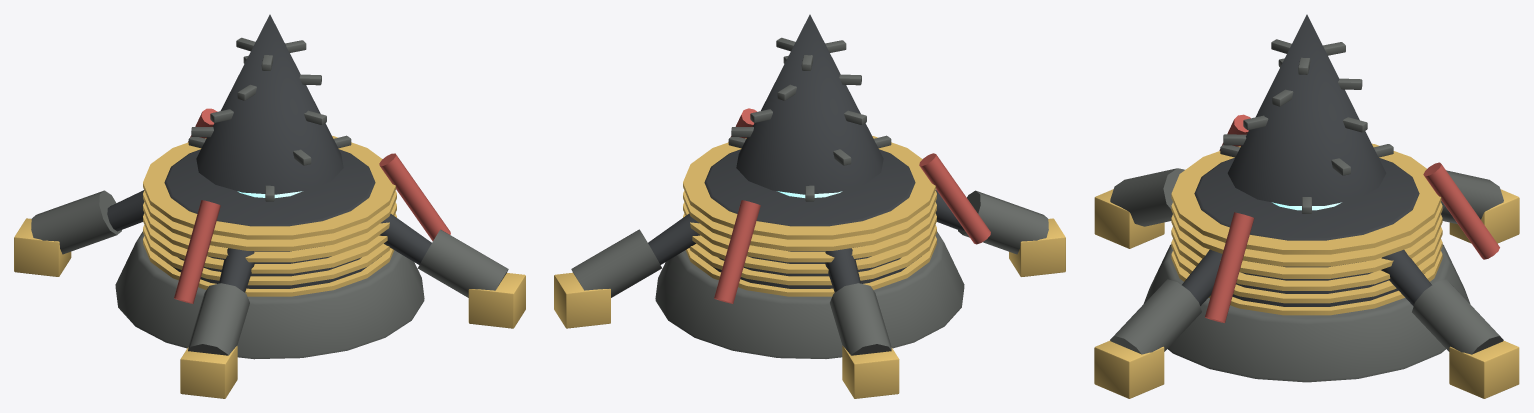
Rendered from bore_engine.glb.
The picture shows the model from 3 angles, left to right: view 1: azimuth 30°, elevation 25°; view 2: azimuth 150°, elevation 25°; view 3: azimuth 270°, elevation 25°; orthographic projection. The views are drawn at different scales.
Parts seen in each view (by area): view 1: body_mesh; view 2: body_mesh; view 3: body_mesh.
Boxes of the visible parts, x1,y1,x2,y2 form: body_mesh: (14,14,525,398); body_mesh: (554,14,1065,398); body_mesh: (1094,14,1519,398).
Size of the model in its own units: 5.08 by 3.95 by 5.08.
